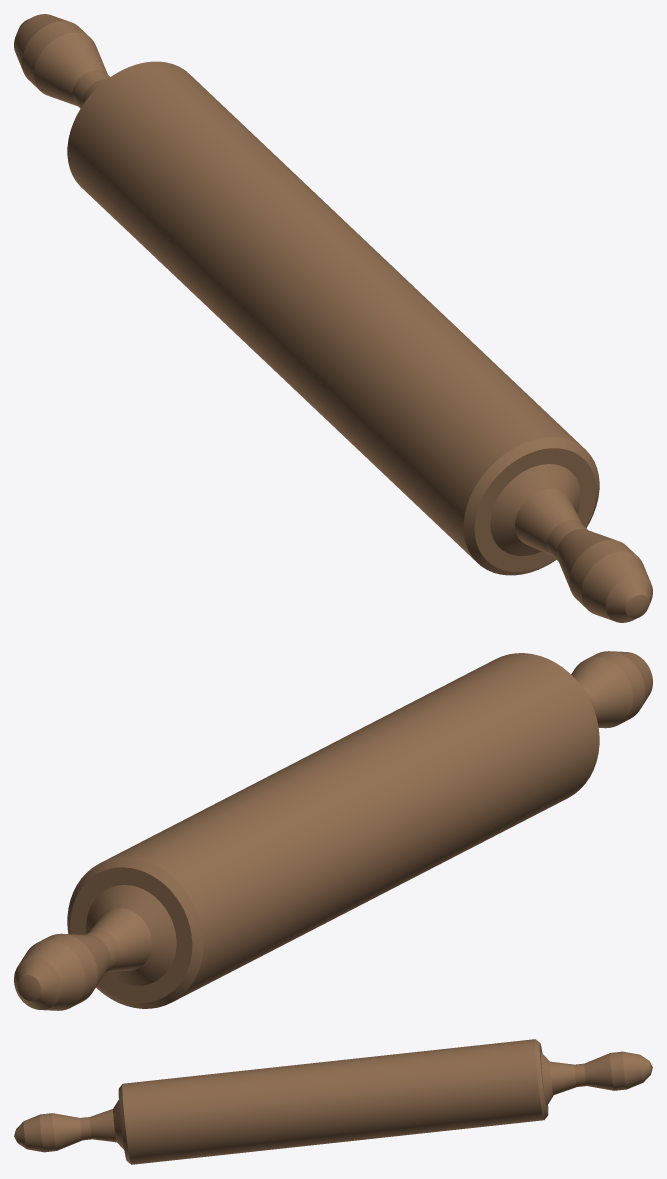
3 renders of one model, top to bottom at view 1: azimuth 30°, elevation 25°; view 2: azimuth 150°, elevation 25°; view 3: azimuth 270°, elevation 25°, orthographic. The views are drawn at different scales.
Visible parts, largest first — view 1: rolling_pin; view 2: rolling_pin; view 3: rolling_pin.
Boxes of the visible parts, left/top/right/bottom form: rolling_pin: left=14, top=14, right=652, bottom=622; rolling_pin: left=14, top=651, right=652, bottom=1010; rolling_pin: left=14, top=1039, right=652, bottom=1164.
Bounding box in the file's own units: 0.0578 × 0.0921 × 0.452.
